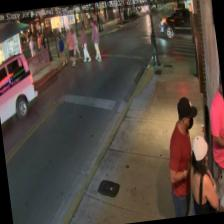person: (160, 95, 210, 217), (183, 132, 219, 214)
